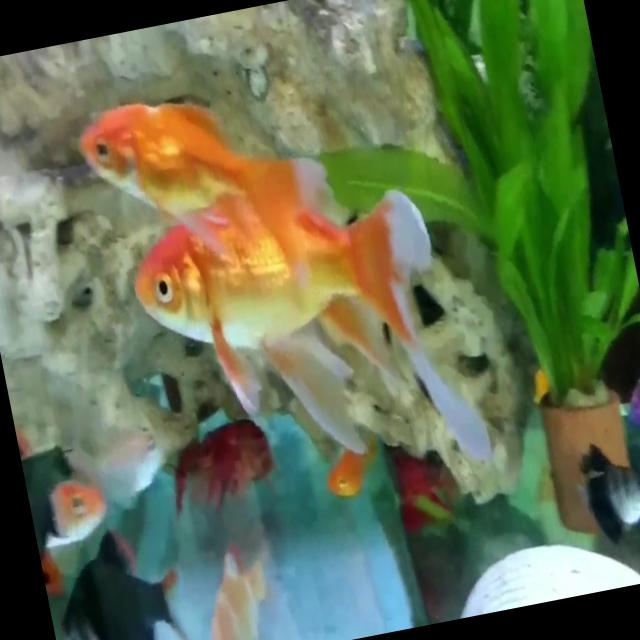GoldFish: (108, 150, 508, 556), (60, 56, 325, 264)
